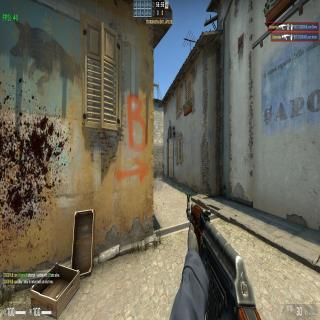CT-Body: (162, 161, 164, 175)
CT-Head: (163, 162, 164, 166)
